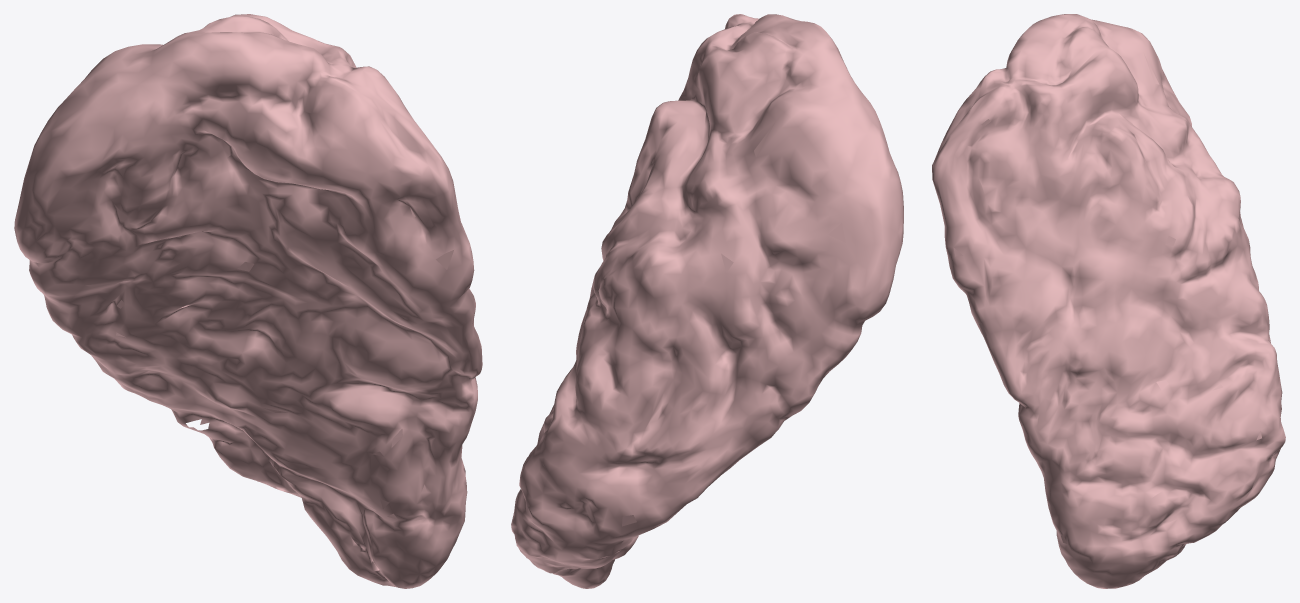
Rendered from 3d-vh-f-palatine-tonsil-l-80.glb.
3 renders of one model, left to right at view 1: azimuth 30°, elevation 25°; view 2: azimuth 150°, elevation 25°; view 3: azimuth 270°, elevation 25°, orthographic. The views are drawn at different scales.
Parts seen in each view (by area): view 1: VH_F_palatine_tonsil_L; view 2: VH_F_palatine_tonsil_L; view 3: VH_F_palatine_tonsil_L.
Boxes of the visible parts, x1,y1,x2,y2 form: VH_F_palatine_tonsil_L: [14, 14, 482, 588]; VH_F_palatine_tonsil_L: [511, 14, 903, 588]; VH_F_palatine_tonsil_L: [932, 14, 1285, 588].
Size of the model in its own units: 0.0163 by 0.0243 by 0.0159.
